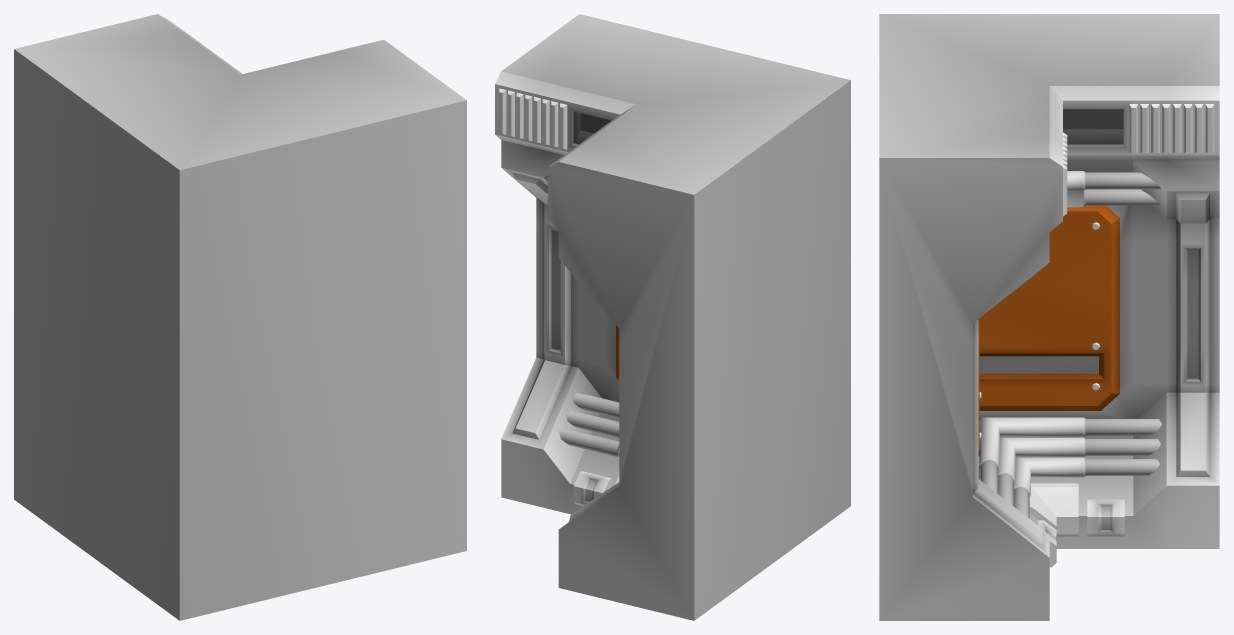
Rendered from wallAngleStraightIn_small.FBX.
3 views of the same model, side by side, from view 1: azimuth 30°, elevation 25°; view 2: azimuth 150°, elevation 25°; view 3: azimuth 270°, elevation 25° (orthographic). The views are drawn at different scales.
Visible parts, largest first — view 1: wallAngleStraightIn_small; view 2: wallAngleStraightIn_small; view 3: wallAngleStraightIn_small.
Boxes of the visible parts, <box> form: wallAngleStraightIn_small: <box>14,14,466,620</box>; wallAngleStraightIn_small: <box>495,14,850,620</box>; wallAngleStraightIn_small: <box>879,14,1219,620</box>.
Bounding box in the file's own units: 2 × 3 × 2.
